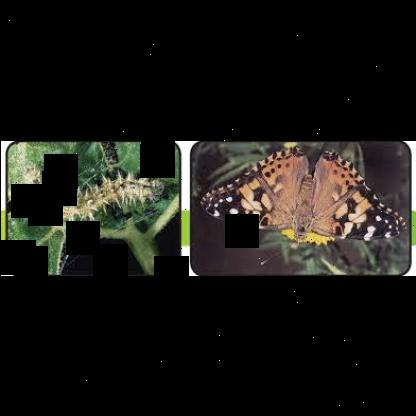oruga: (19, 160, 168, 224)
